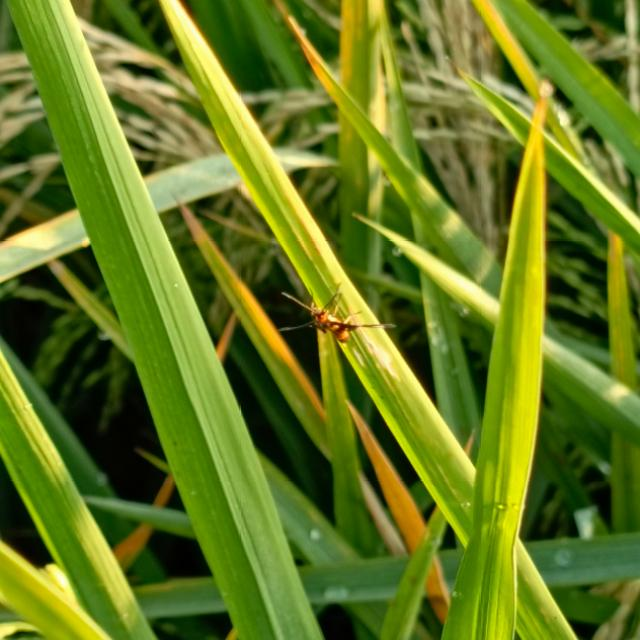Leaf scald: (267, 272, 399, 348)
